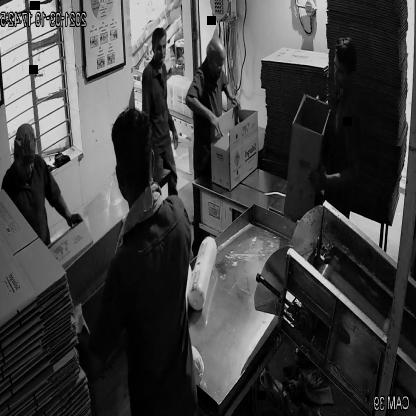no_glove: (306, 152, 363, 200), (178, 94, 230, 139), (48, 182, 86, 233)
